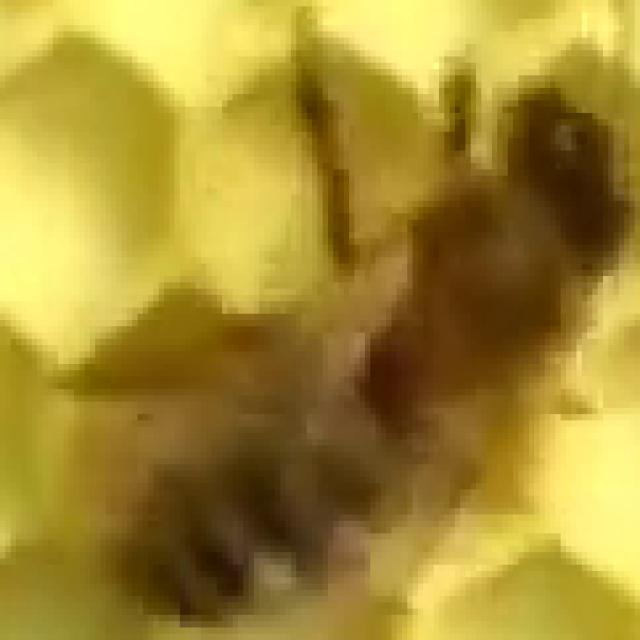honeybee: (151, 76, 624, 524)
